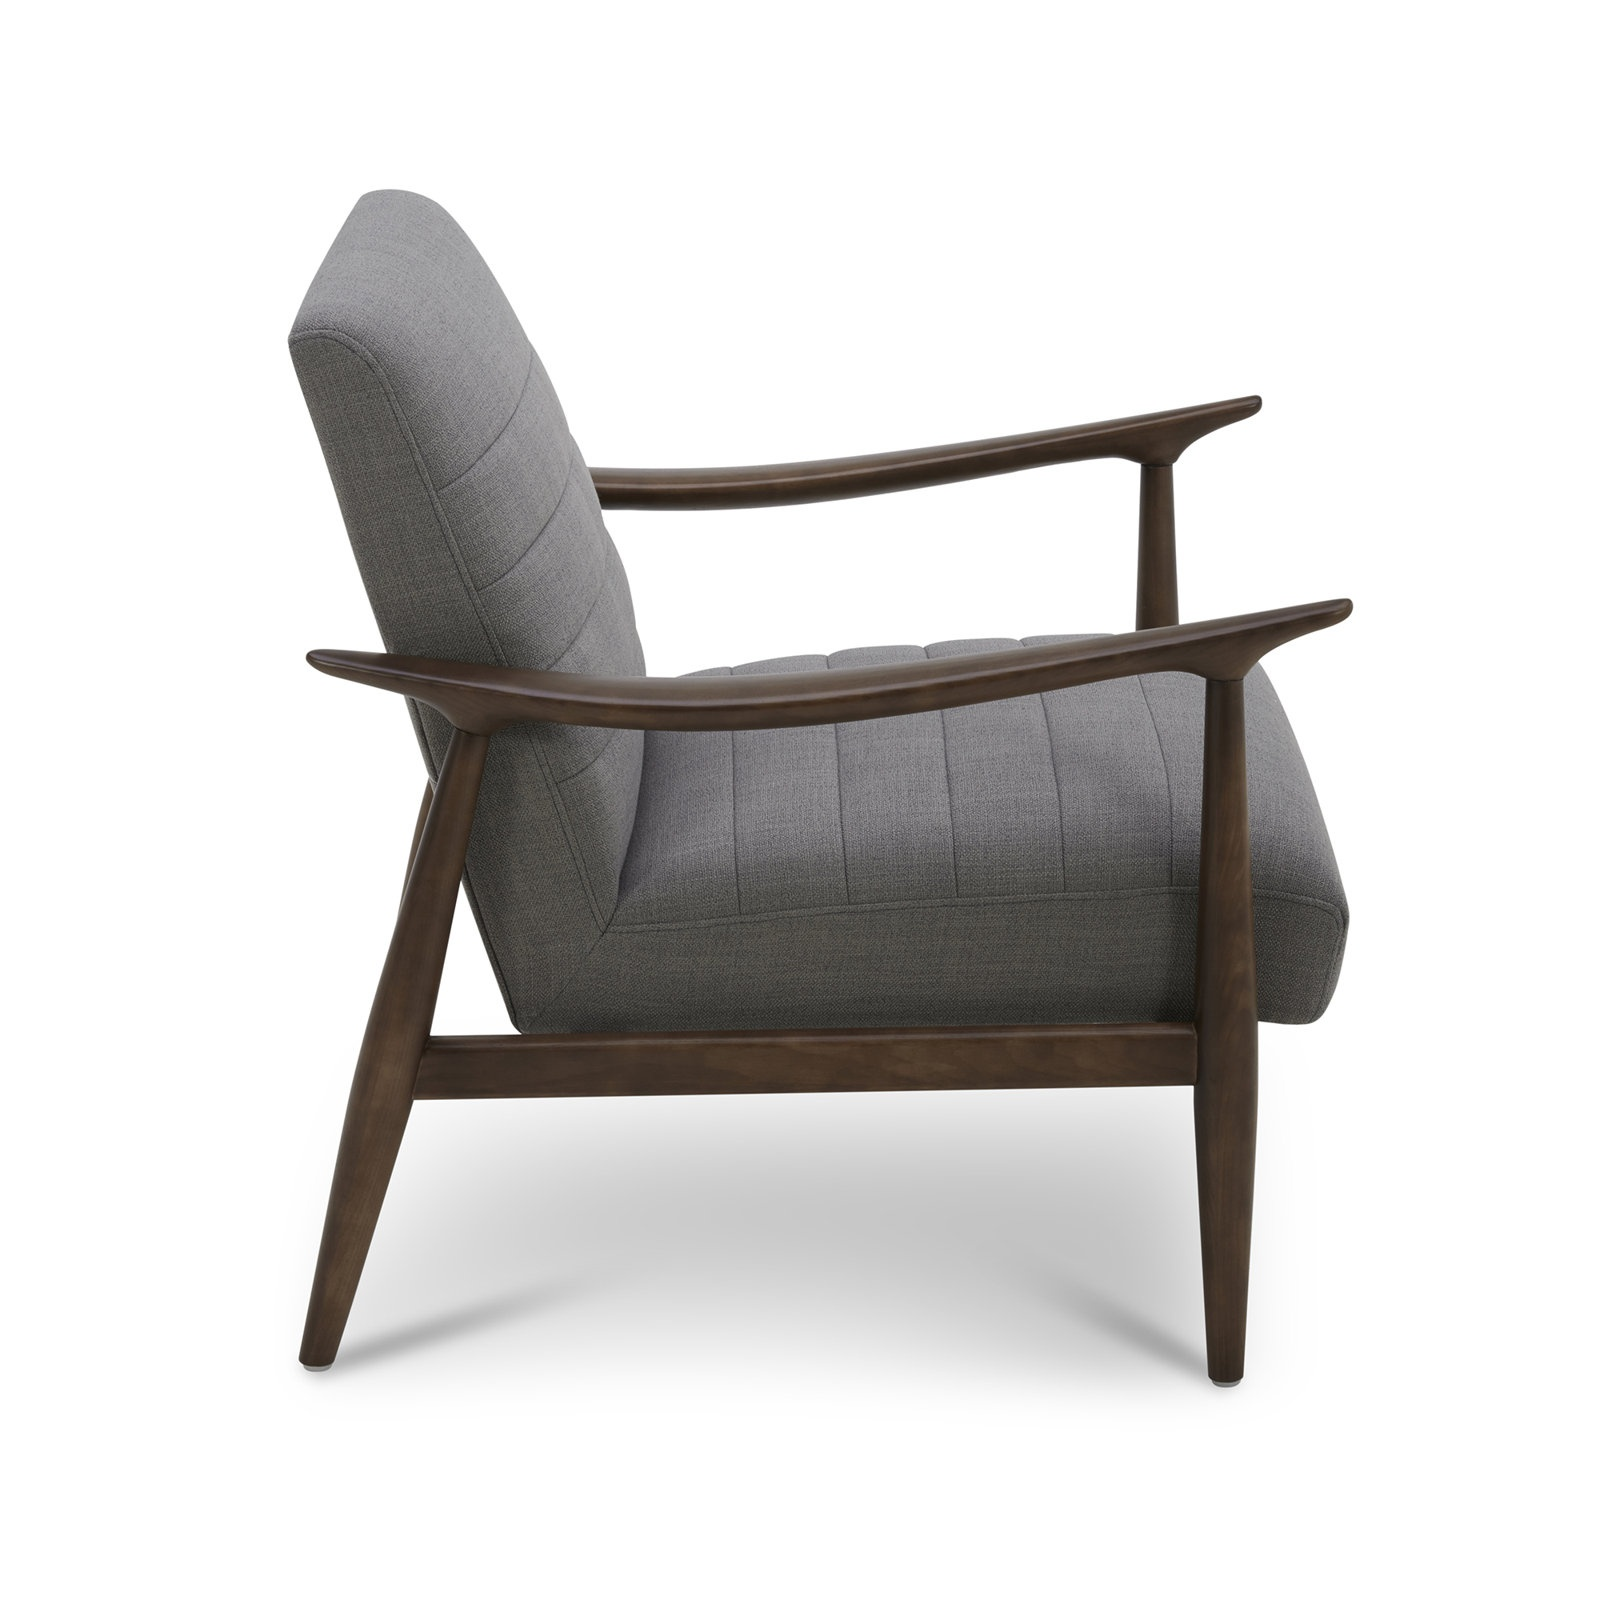obstacle: (292, 192, 1347, 1382)
